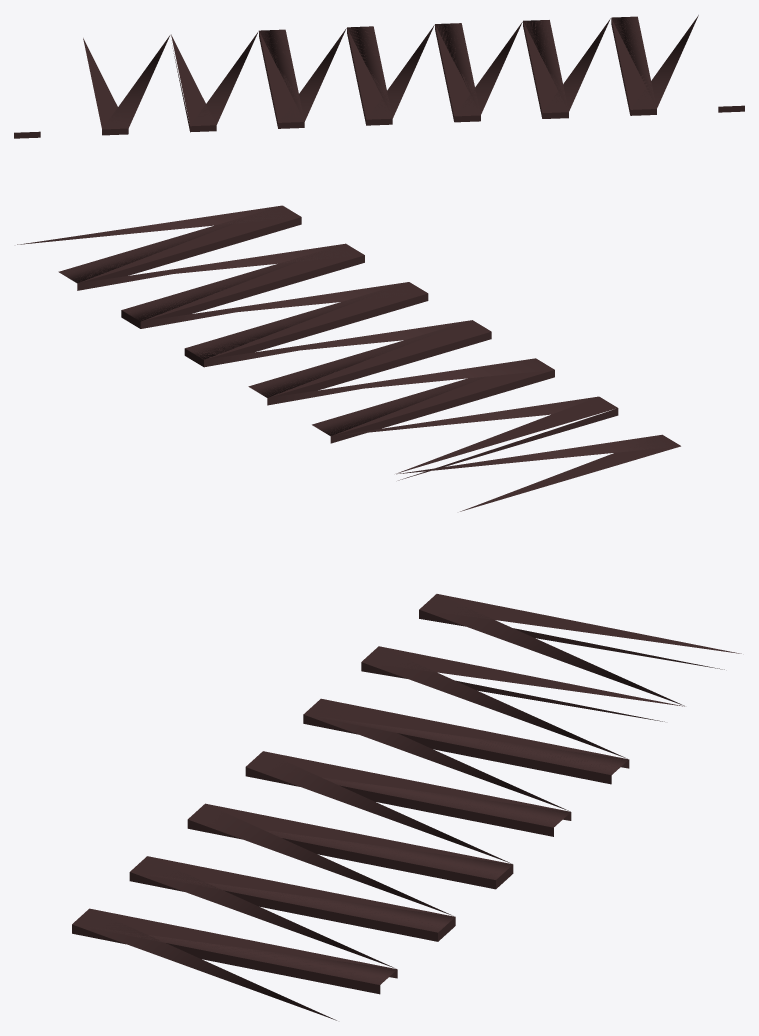
The picture shows the model from 3 angles, top to bottom: view 1: azimuth 30°, elevation 25°; view 2: azimuth 150°, elevation 25°; view 3: azimuth 270°, elevation 25°; orthographic projection. The views are drawn at different scales.
Size of the model in its own units: 7.13 by 0.064 by 4.59.
